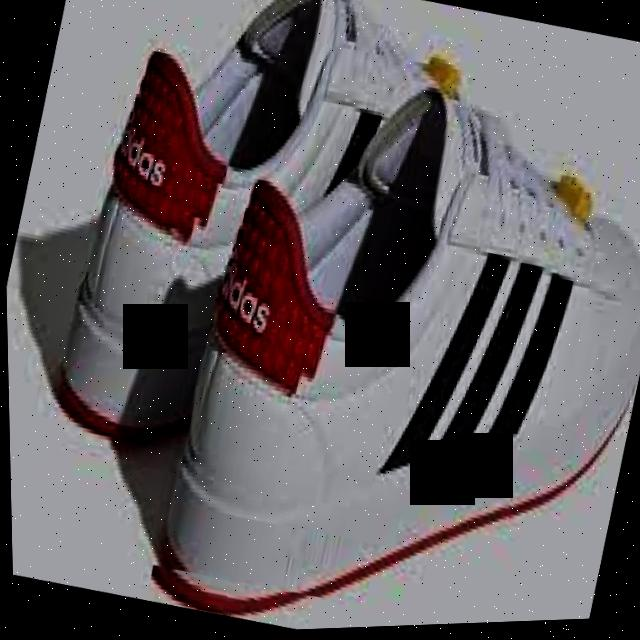shoe: (9, 0, 640, 640), (133, 38, 640, 636)
